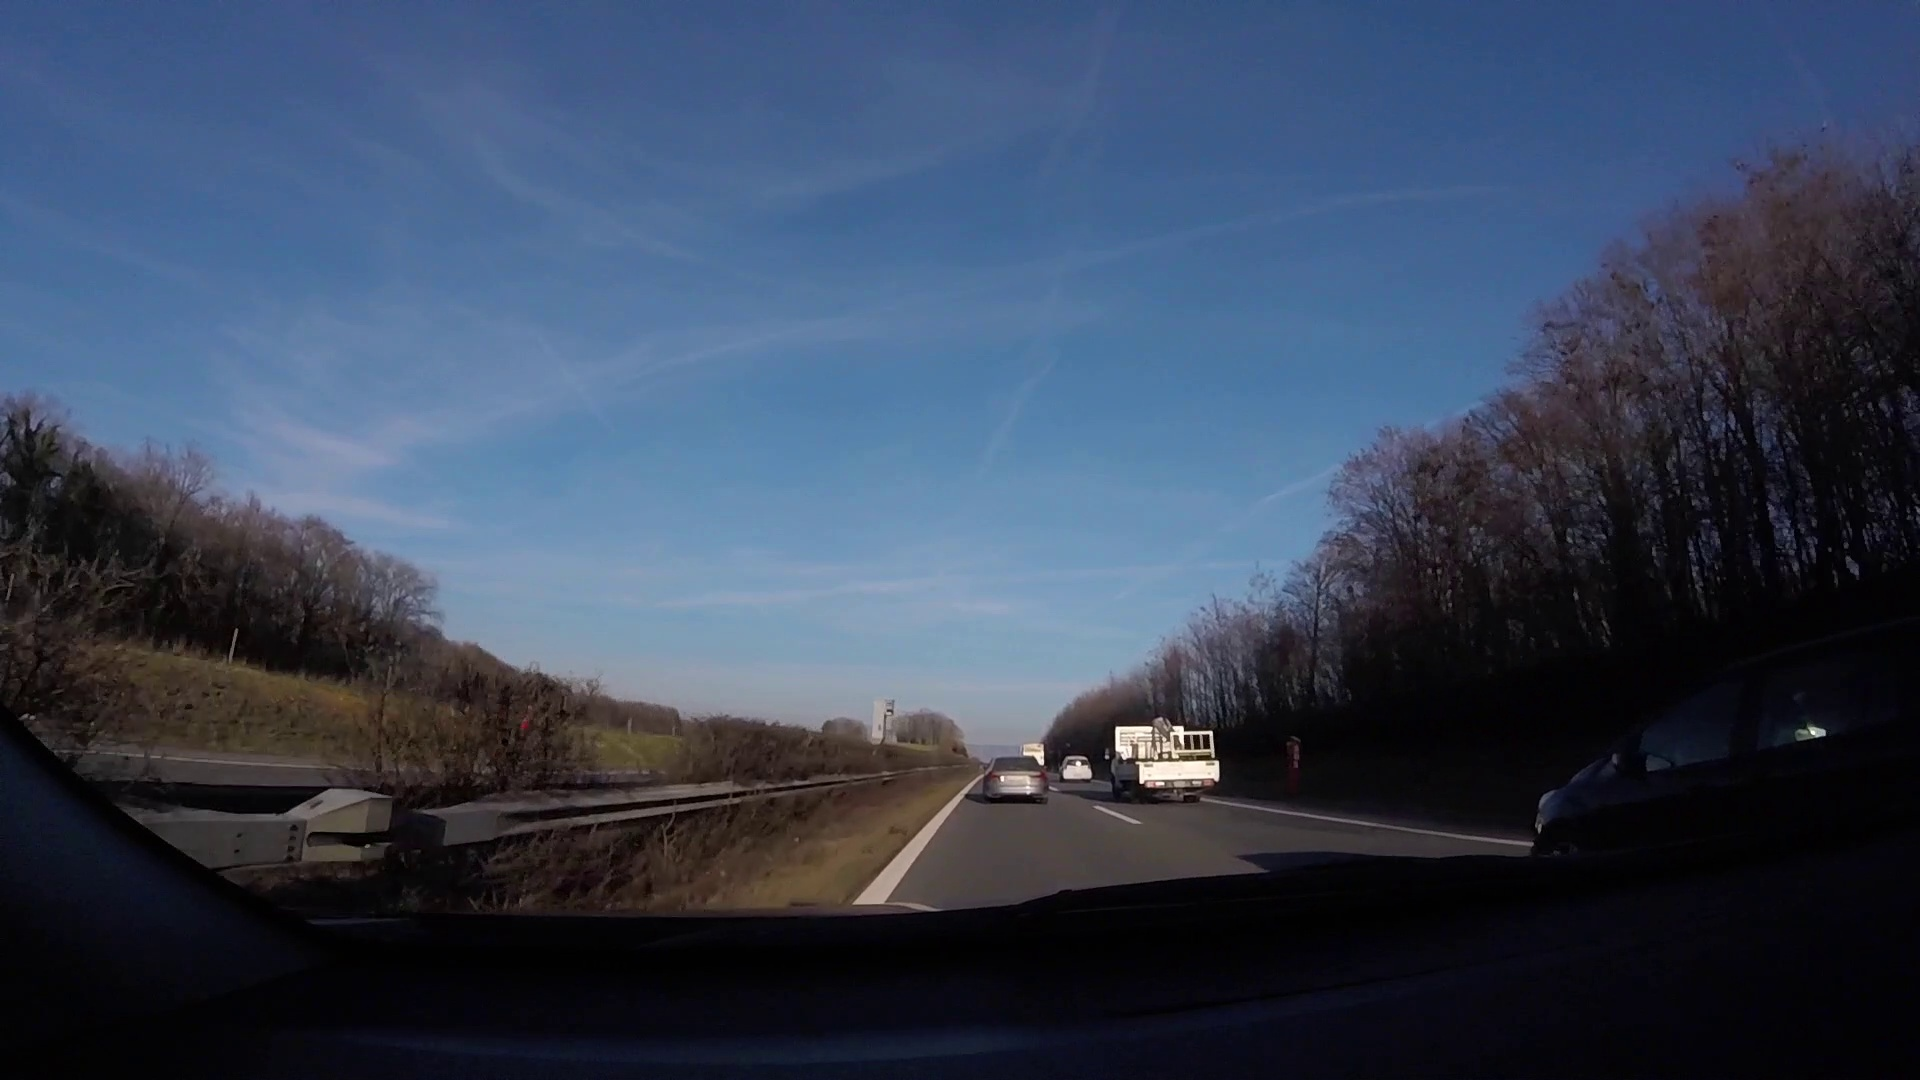radar: (870, 698, 895, 746)
